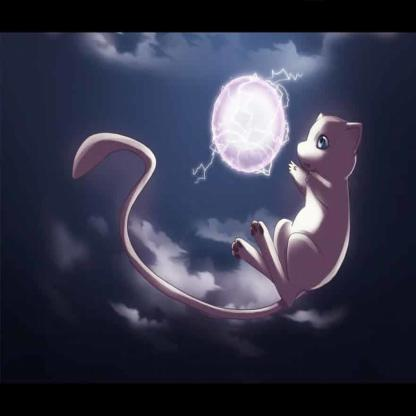Mew: (68, 72, 369, 331)
